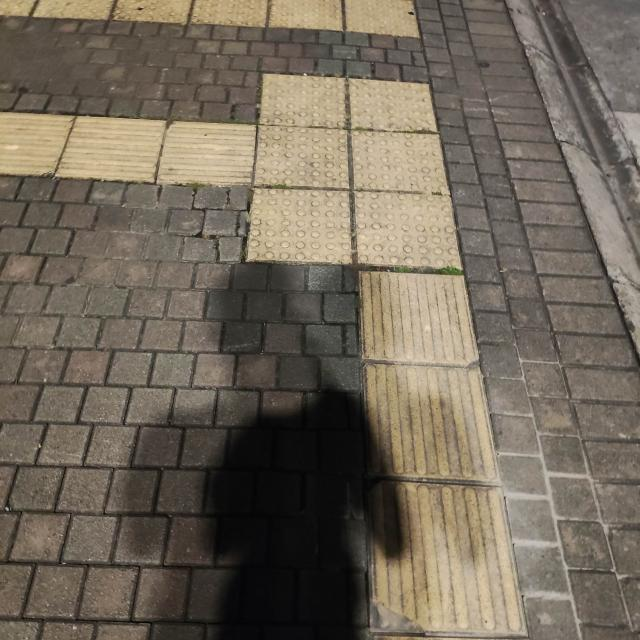kiri: (127, 65, 524, 371)
